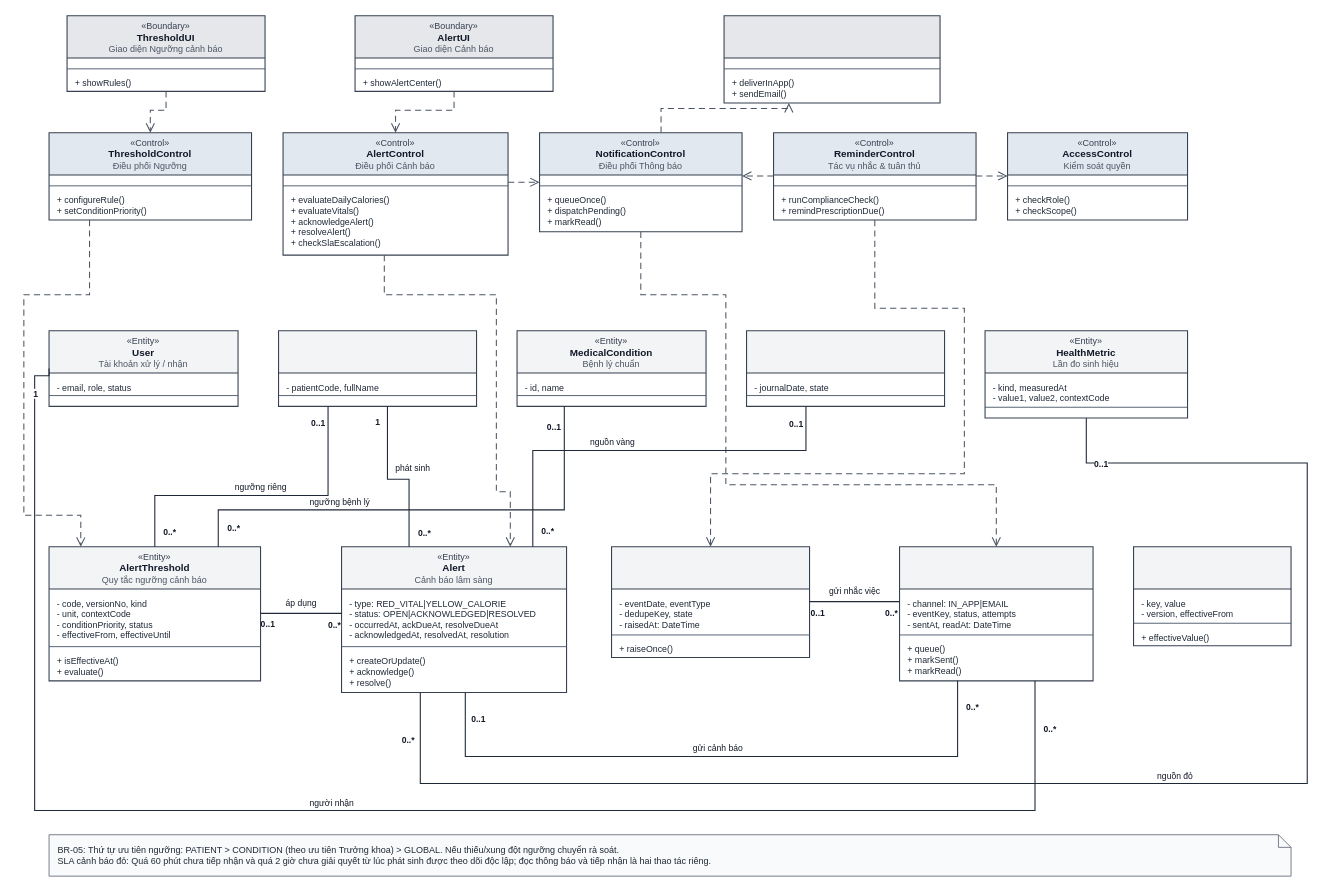
The diagram is 1325 pixels wide and 893 high, and some of its shapes have lost their labels. The shapes that lost their labels are listed below. From the top down, each one's box as (x1, y1, x2, y2) in pixels, then its label:
(723, 15, 940, 103): «Boundary» NotificationGateway Cổng gửi thông báo
(278, 330, 477, 406): «Entity» Patient Bệnh nhân
(746, 330, 945, 406): «Entity» FoodJournal Nhật ký ngày
(611, 546, 810, 658): «Entity» FollowUpEvent Sự kiện theo dõi (BR-06/07)
(899, 546, 1093, 681): «Entity» Notification Thông báo In-App / Email
(1133, 546, 1291, 646): «Entity» SystemSetting Tham số vận hành
